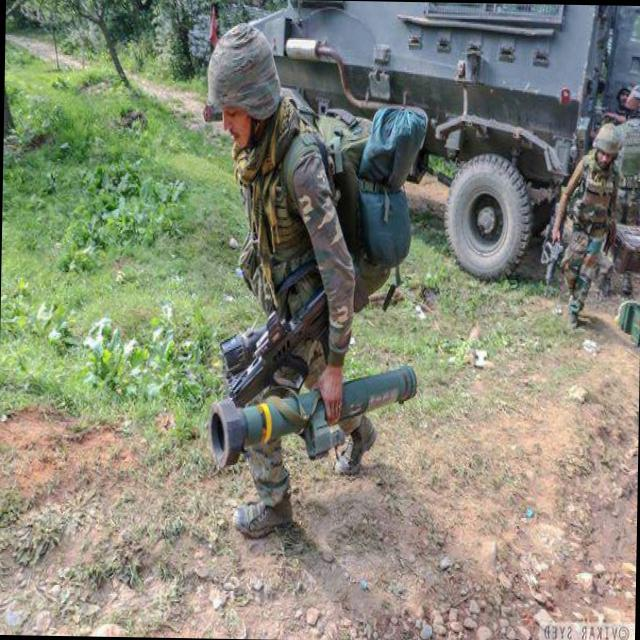rocket: (210, 349, 414, 466)
